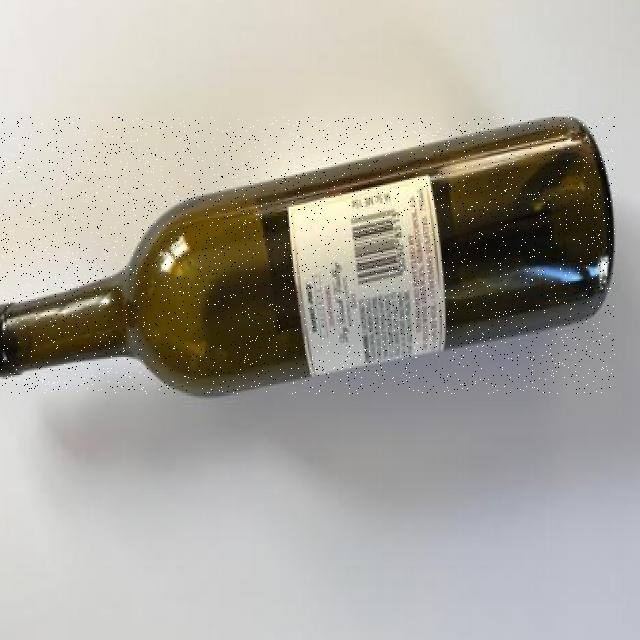glass: (0, 117, 615, 394)
